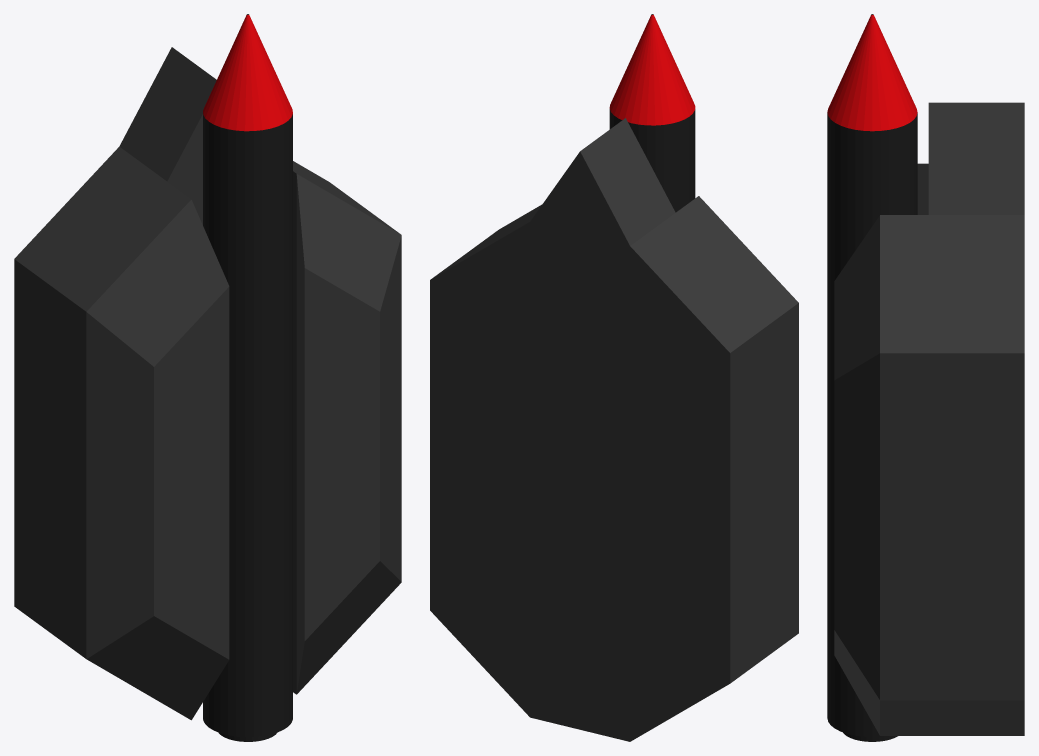
Rendered from rm_jetpack.fbx.
3 views of the same model, side by side, from view 1: azimuth 30°, elevation 25°; view 2: azimuth 150°, elevation 25°; view 3: azimuth 270°, elevation 25° (orthographic). The views are drawn at different scales.
Parts seen in each view (by area): view 1: RM_Jetpack; view 2: RM_Jetpack; view 3: RM_Jetpack.
Boxes of the visible parts, x1,y1,x2,y2 form: RM_Jetpack: (14, 14, 401, 741); RM_Jetpack: (430, 14, 798, 741); RM_Jetpack: (827, 14, 1024, 741).
Size of the model in its own units: 380 by 823 by 206.
